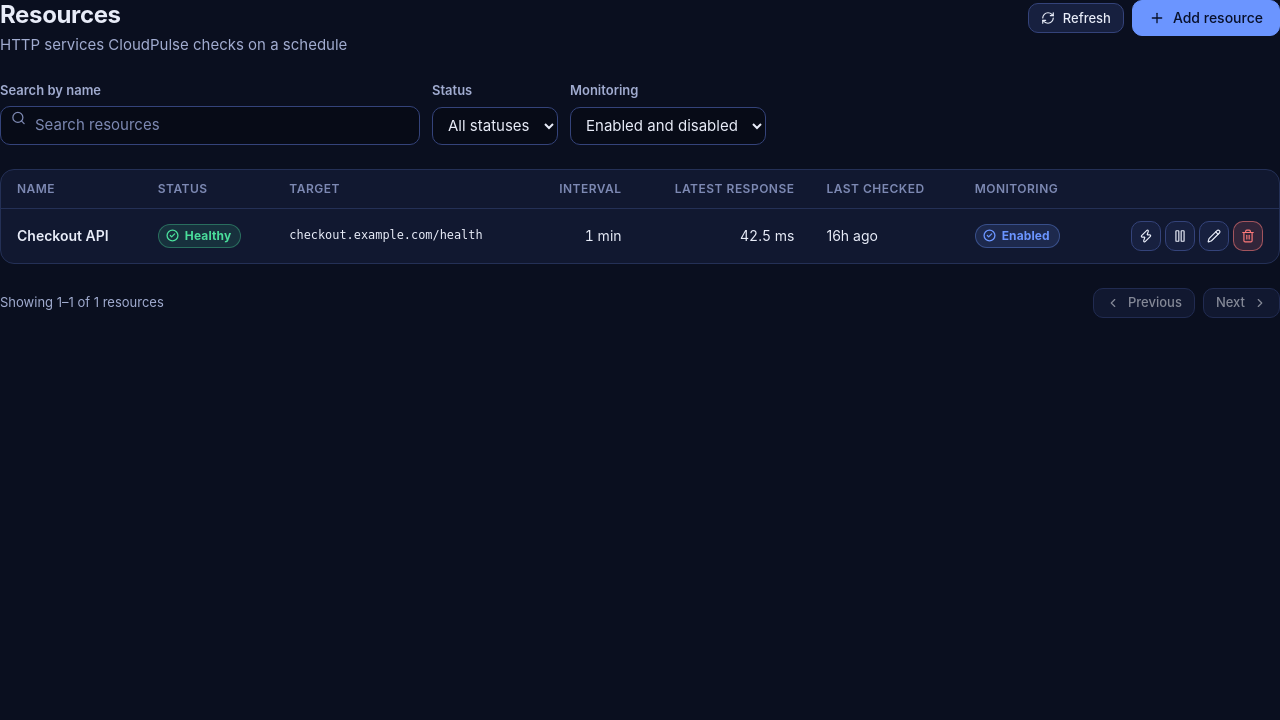
it: ResourcesPage row actions › does nothing when the delete is cancelled
Expected: the link "Checkout API" is shown, [17,227,109,244]
Click the button named "Delete Checkout API" at (1248, 236), box [1233,220,1263,250]
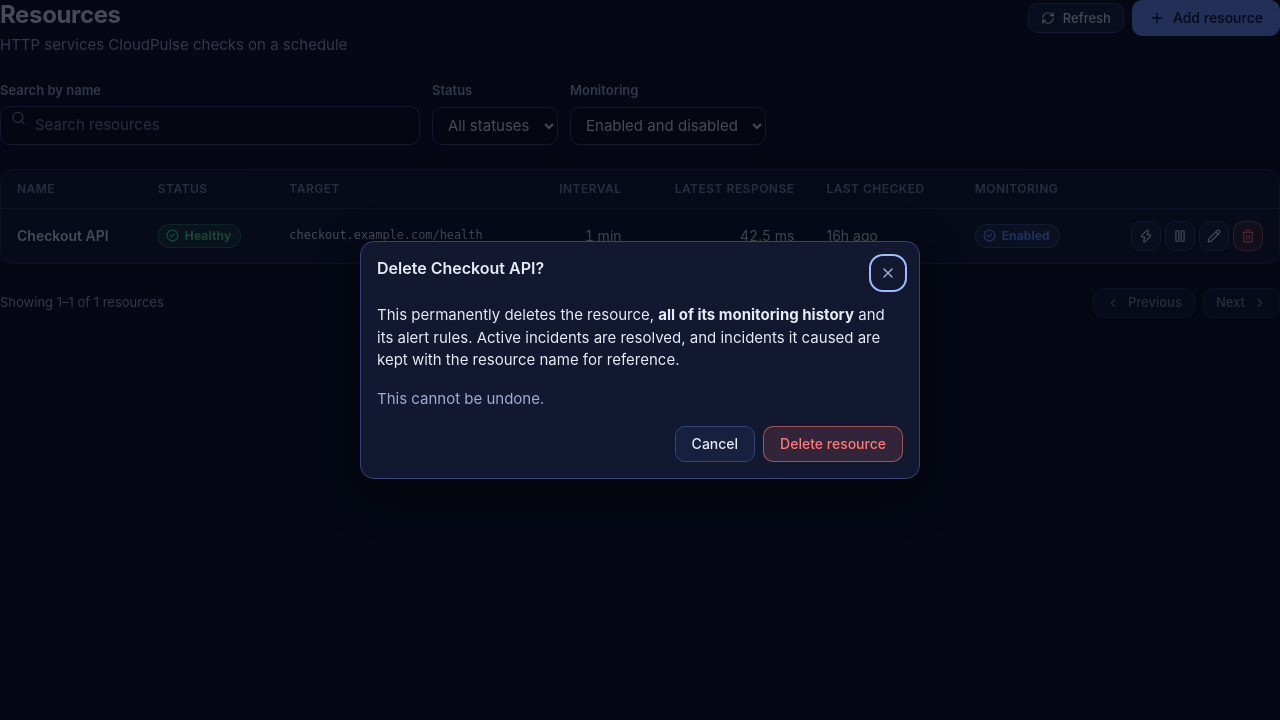
Click the button "Cancel" at (715, 444), box [675,426,755,462]
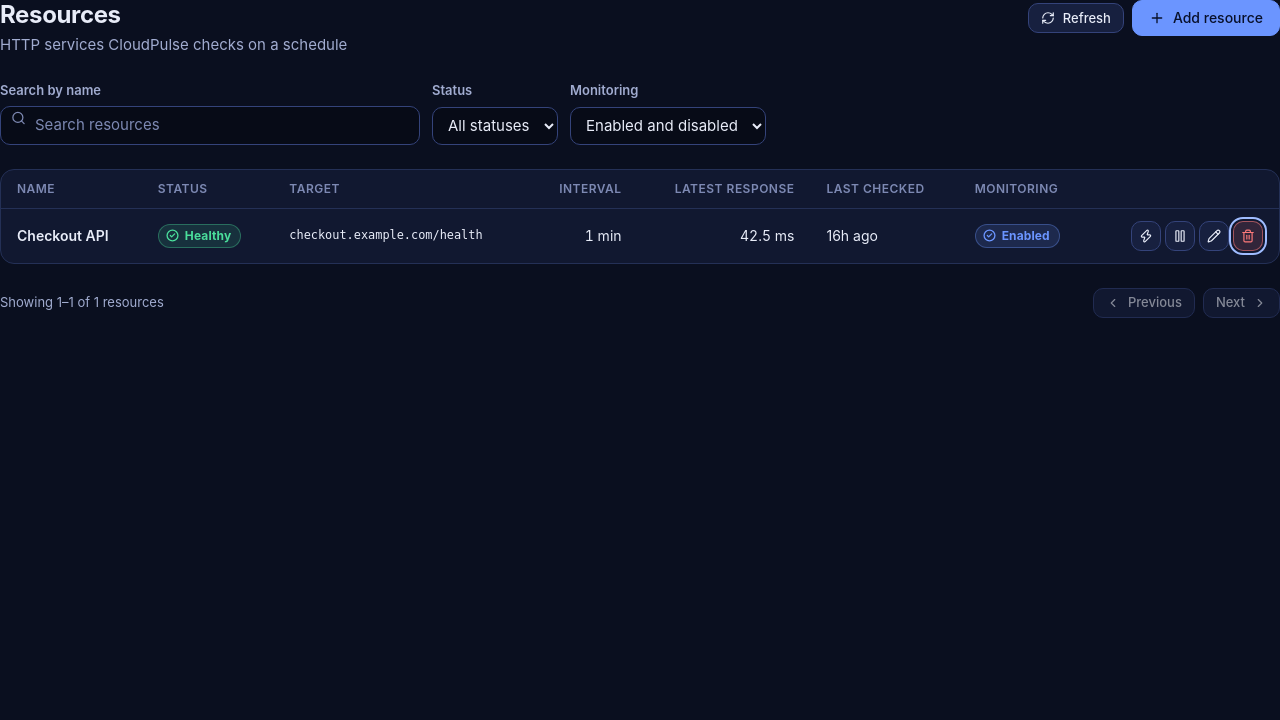
Expected: the dialog is gone
